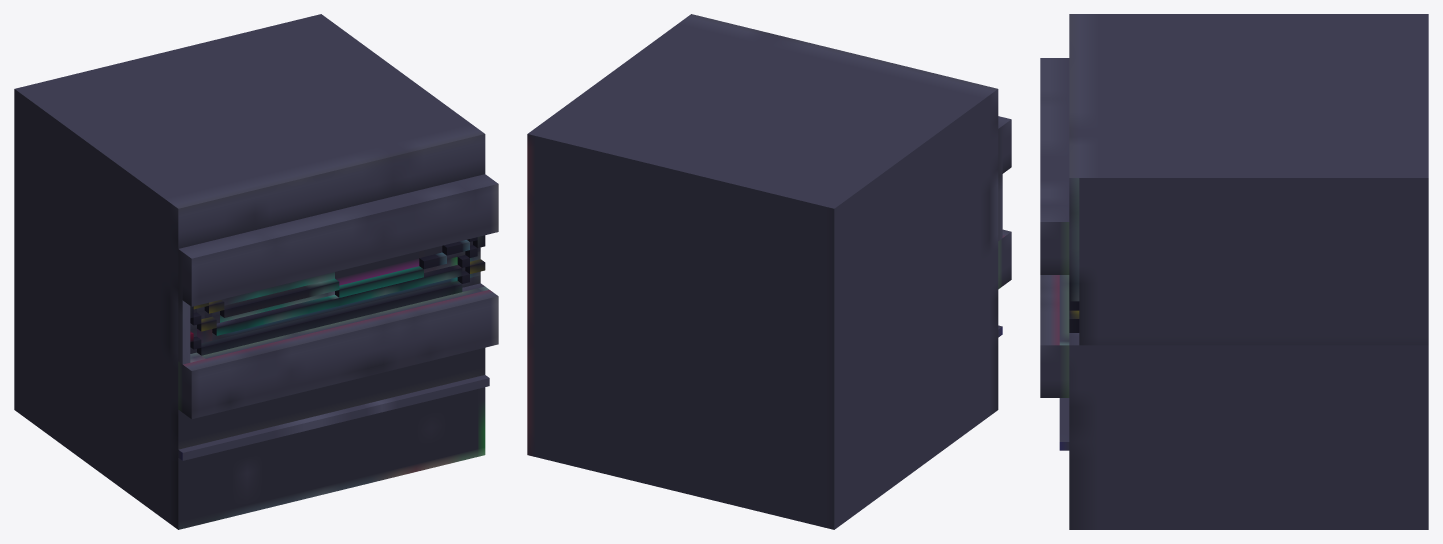
File: TrimPiece_C_00.fbx
3 views of the same model, side by side, from view 1: azimuth 30°, elevation 25°; view 2: azimuth 150°, elevation 25°; view 3: azimuth 270°, elevation 25° (orthographic). The views are drawn at different scales.
Parts seen in each view (by area): view 1: TrimPiece_C_00; view 2: TrimPiece_C_00; view 3: TrimPiece_C_00.
Boxes of the visible parts, <box> form: TrimPiece_C_00: <box>14,14,498,529</box>; TrimPiece_C_00: <box>527,14,1011,529</box>; TrimPiece_C_00: <box>1040,14,1428,529</box>.
Bounding box in the file's own units: 200 × 200 × 200.
